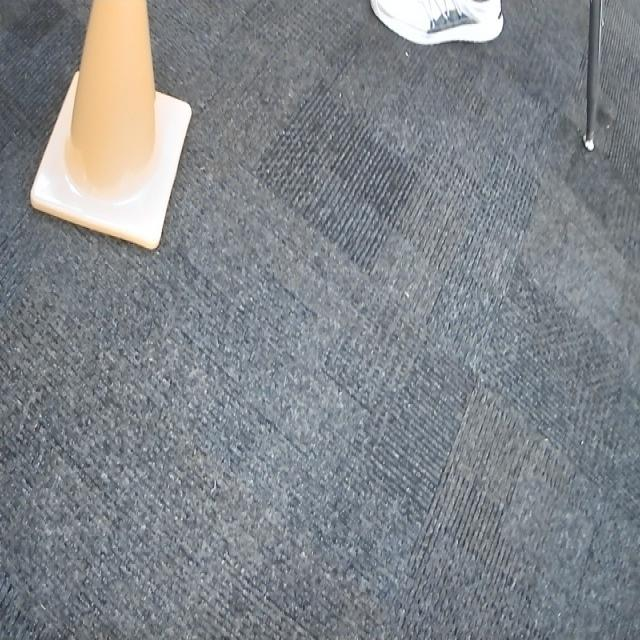cone: (28, 0, 195, 259)
